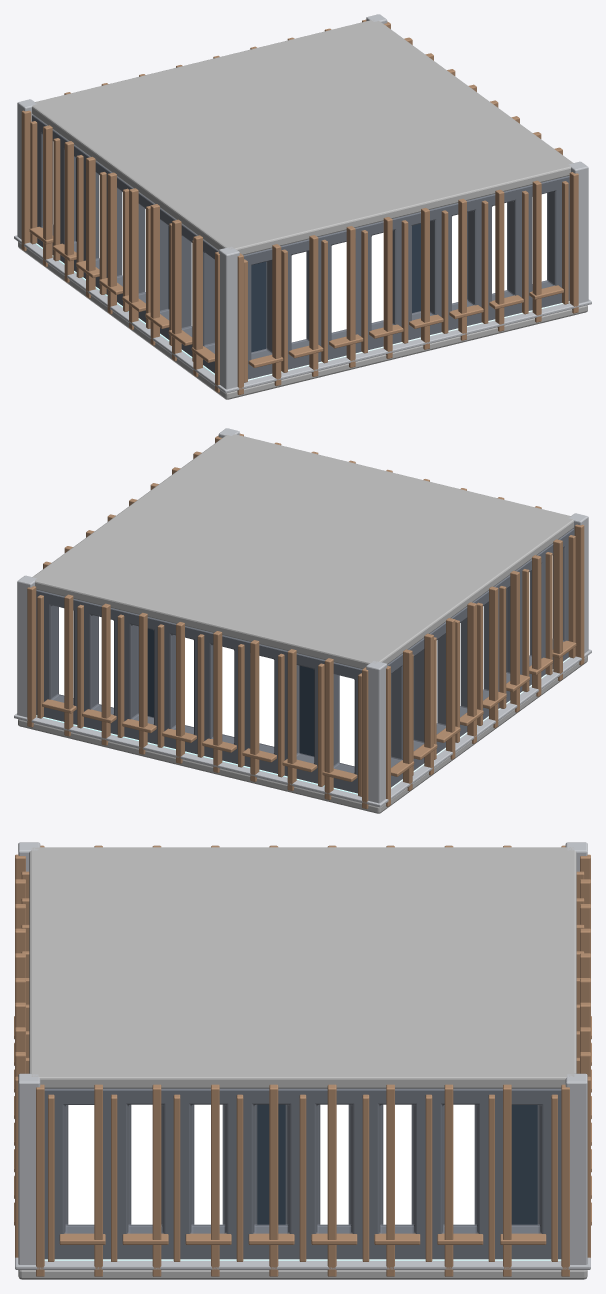
The model's file is deco_5x5.glb.
The picture shows the model from 3 angles, top to bottom: view 1: azimuth 30°, elevation 25°; view 2: azimuth 150°, elevation 25°; view 3: azimuth 270°, elevation 25°; orthographic projection. The views are drawn at different scales.
Visible parts, largest first — view 1: int_ceiling, ext_wall, ext_ribs, ext_frames, ext_panes_lit, int_columns, int_slab_edge, int_slab, ext_panes_dark, int_grid; view 2: int_ceiling, ext_wall, ext_ribs, ext_frames, ext_panes_lit, int_columns, int_slab_edge, int_slab, ext_panes_dark, int_grid; view 3: int_ceiling, ext_wall, ext_ribs, ext_frames, ext_panes_lit, int_columns, ext_panes_dark, int_slab, int_slab_edge, int_grid.
Part boxes in pixels (x1,y1,x2,y2): int_ceiling: [32, 19, 573, 255]; ext_wall: [32, 115, 569, 379]; ext_ribs: [21, 19, 578, 395]; ext_frames: [29, 121, 568, 382]; ext_panes_lit: [53, 141, 546, 342]; int_columns: [17, 14, 588, 389]; int_slab_edge: [14, 235, 591, 393]; int_slab: [18, 242, 587, 399]; ext_panes_dark: [76, 158, 420, 352]; int_grid: [36, 243, 569, 380]; int_ceiling: [32, 434, 573, 669]; ext_wall: [36, 529, 573, 793]; ext_ribs: [27, 433, 584, 809]; ext_frames: [37, 535, 576, 796]; ext_panes_lit: [59, 555, 552, 766]; int_columns: [17, 428, 588, 803]; int_slab_edge: [14, 649, 591, 807]; int_slab: [18, 656, 587, 813]; ext_panes_dark: [147, 589, 506, 756]; int_grid: [36, 657, 569, 794]; int_ceiling: [29, 847, 576, 1088]; ext_wall: [44, 1088, 561, 1259]; ext_ribs: [15, 845, 590, 1276]; ext_frames: [14, 871, 591, 1261]; ext_panes_lit: [68, 1104, 474, 1224]; int_columns: [18, 842, 587, 1264]; ext_panes_dark: [257, 1104, 537, 1224]; int_slab: [18, 1270, 587, 1279]; int_slab_edge: [15, 1257, 590, 1269]; int_grid: [44, 1259, 561, 1260].
Bounding box in the file's own units: 5.28 × 2 × 5.28.
